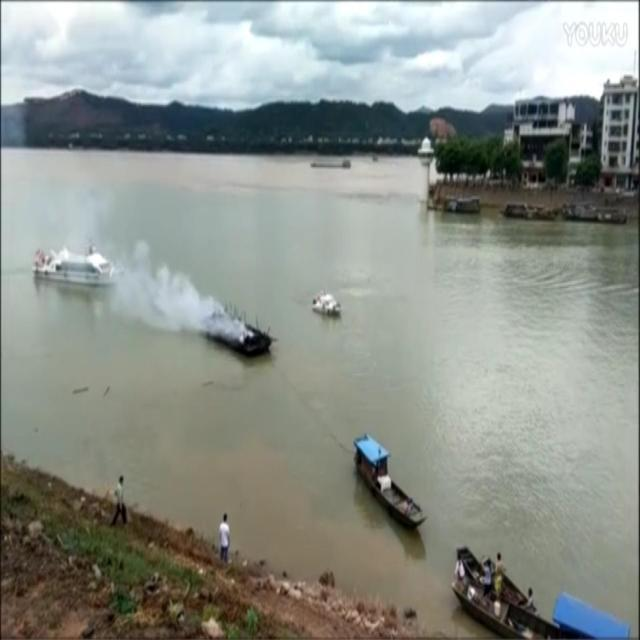Smoke: (0, 49, 255, 345)
